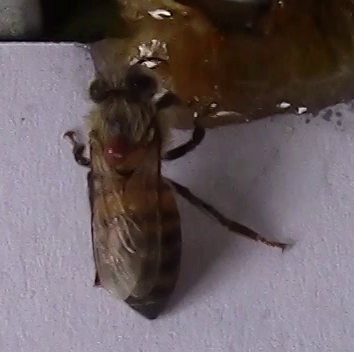Varroa destructor: (102, 131, 129, 167)
